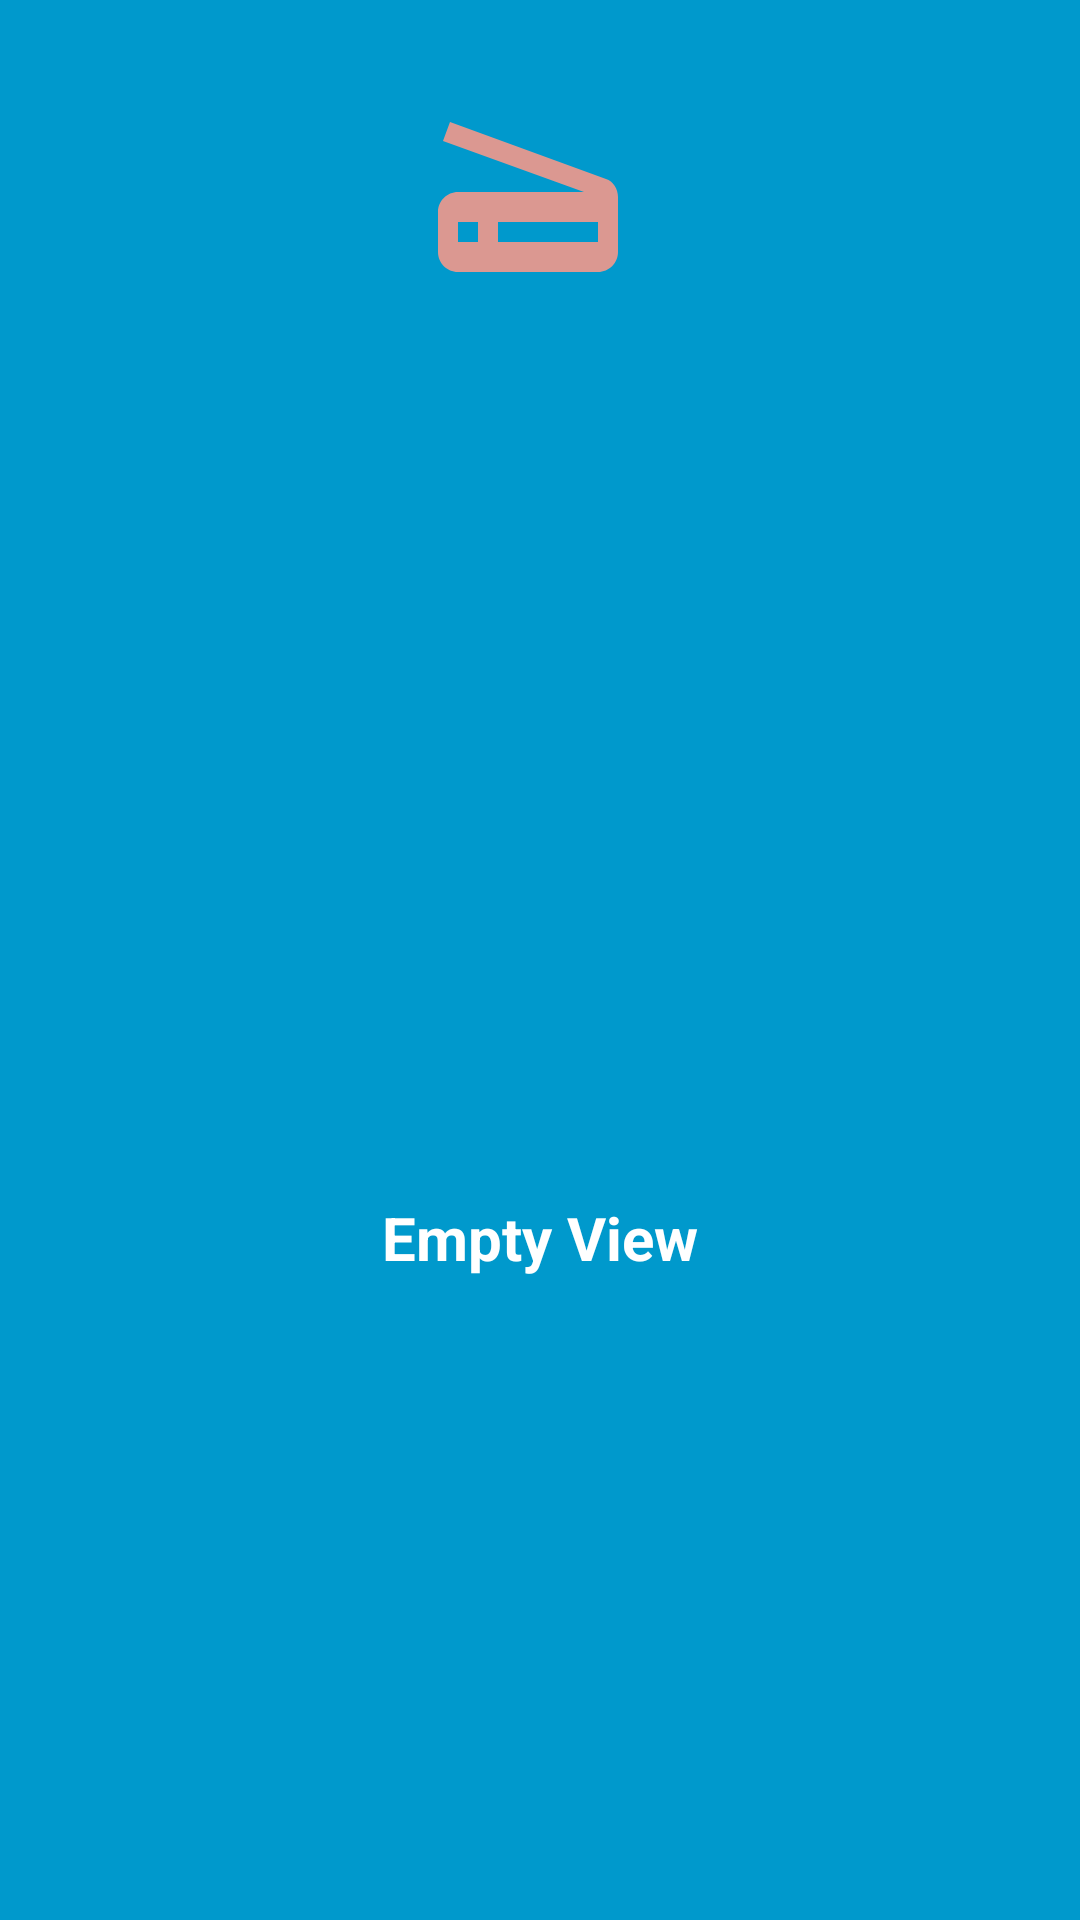

Point at icon controls on the screen. Image size 1080 × 1920, points as (x=x, y=y).
scanner: (x=528, y=197)
